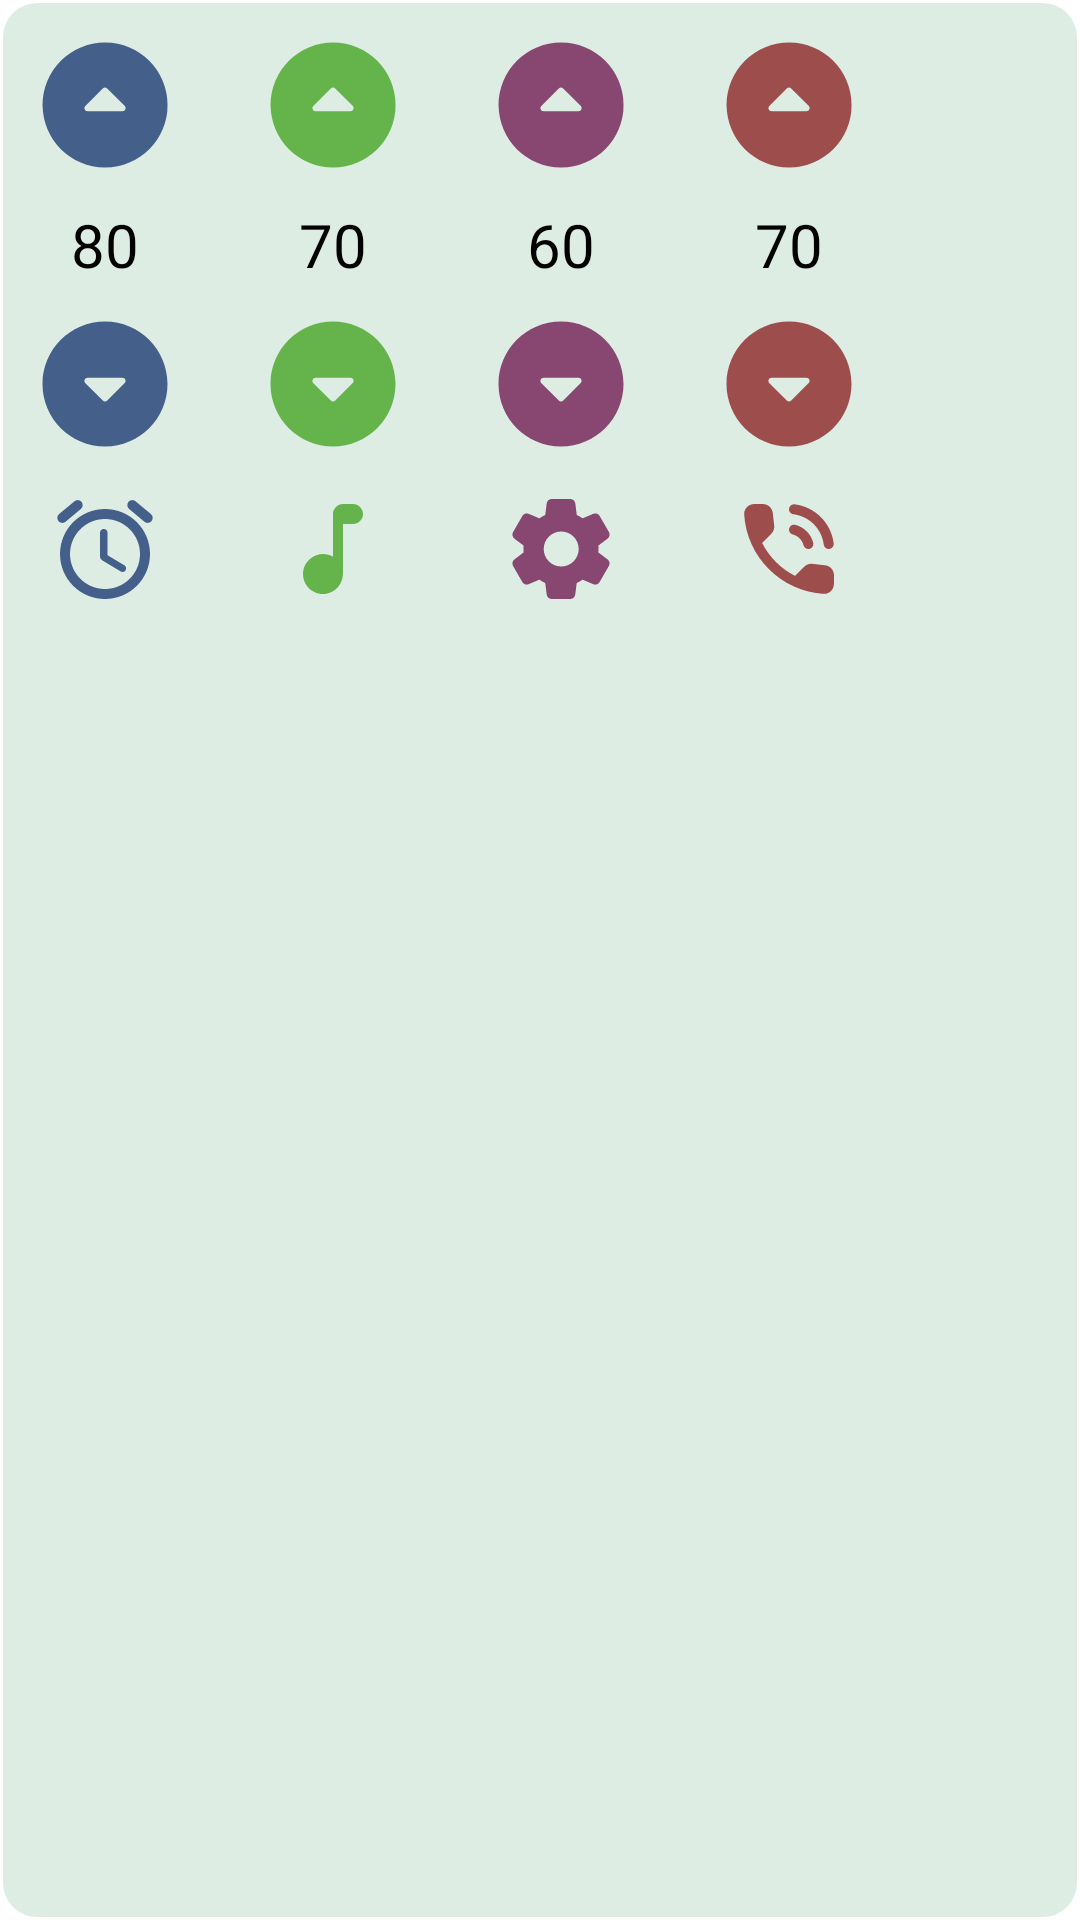

Where to tap for icons on this 1080 x 1920 app screen, as [x,y]:
alarm: [105,549]
music: [333,549]
ring: [789,549]
system: [561,549]
